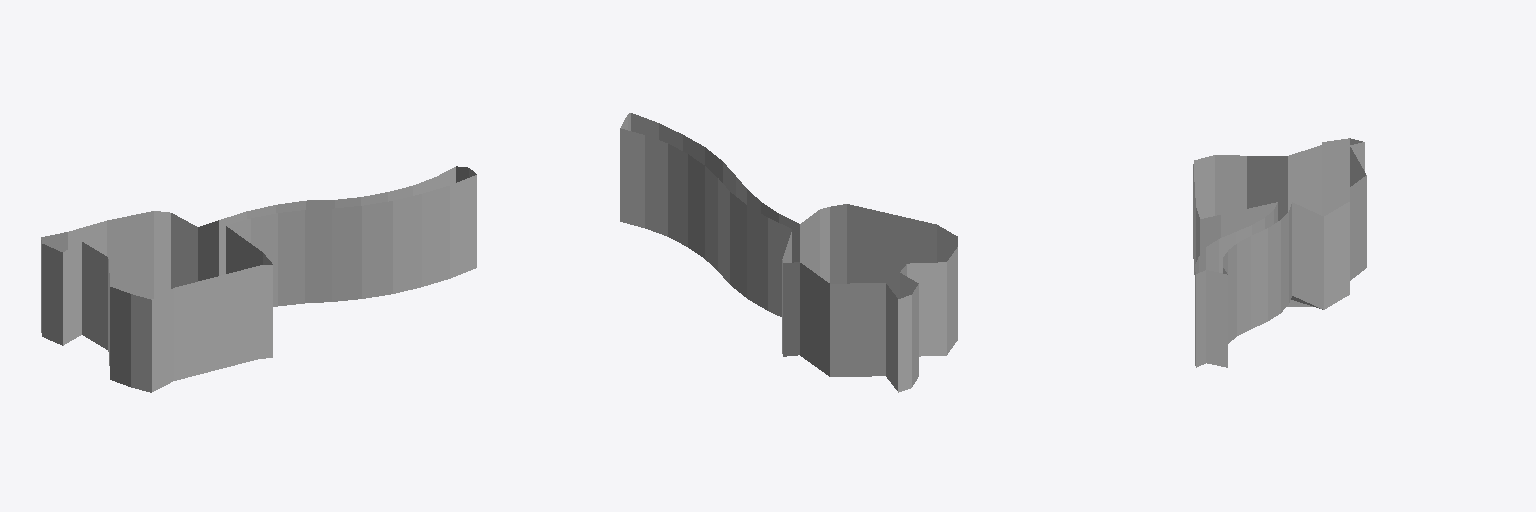
Rendered from block_area_1.obj.
3 renders of one model, left to right at view 1: azimuth 30°, elevation 25°; view 2: azimuth 150°, elevation 25°; view 3: azimuth 270°, elevation 25°, orthographic.
Parts seen in each view (by area): view 1: nav_Plane.009; view 2: nav_Plane.009; view 3: nav_Plane.009.
Boxes of the visible parts, x1=… form: nav_Plane.009: x1=41, y1=166, x2=476, y2=392; nav_Plane.009: x1=620, y1=113, x2=957, y2=392; nav_Plane.009: x1=1193, y1=138, x2=1366, y2=367.
Bounding box in the file's own units: 39.76 × 15.35 × 16.68.